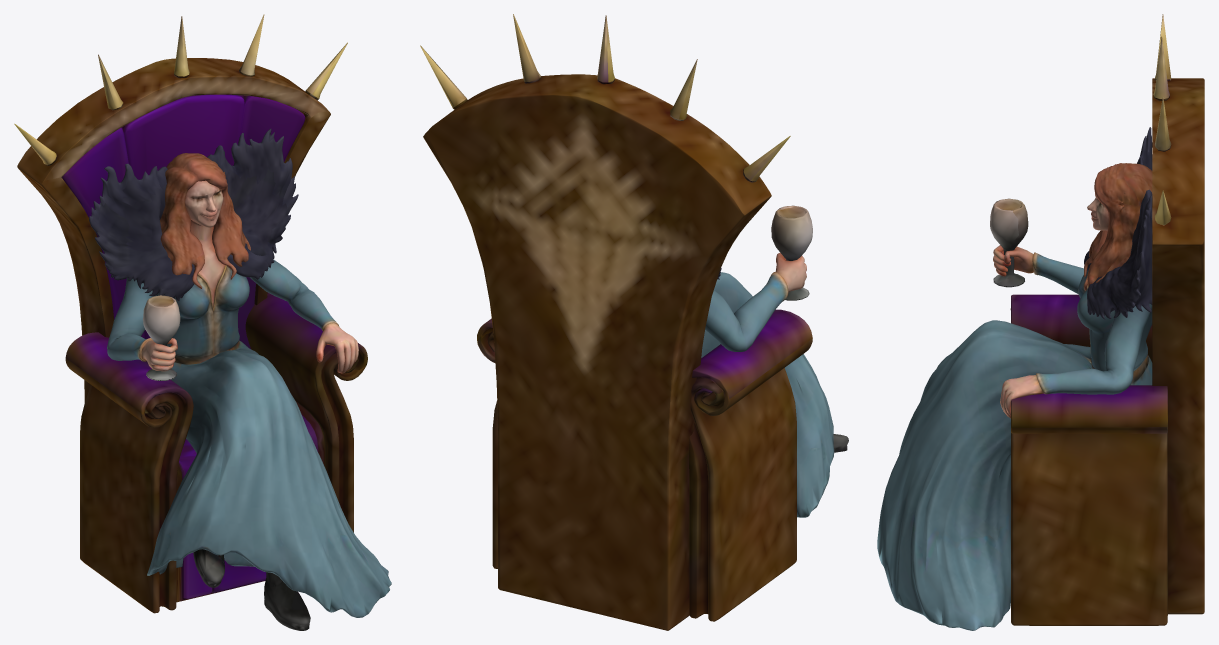
Rendered from MZ4250 - Noblewoman on Throne.glb.
The picture shows the model from 3 angles, left to right: view 1: azimuth 30°, elevation 25°; view 2: azimuth 150°, elevation 25°; view 3: azimuth 270°, elevation 25°; orthographic projection. The views are drawn at different scales.
Visible parts, largest first — view 1: Cylinder.001; view 2: Cylinder.001; view 3: Cylinder.001.
Part boxes in pixels (<box>): Cylinder.001: <box>14,14,391,630</box>; Cylinder.001: <box>420,14,848,630</box>; Cylinder.001: <box>877,14,1204,630</box>.
Bounding box in the file's own units: 65.1 × 97.23 × 53.42.
3 materials, 3 textured.
